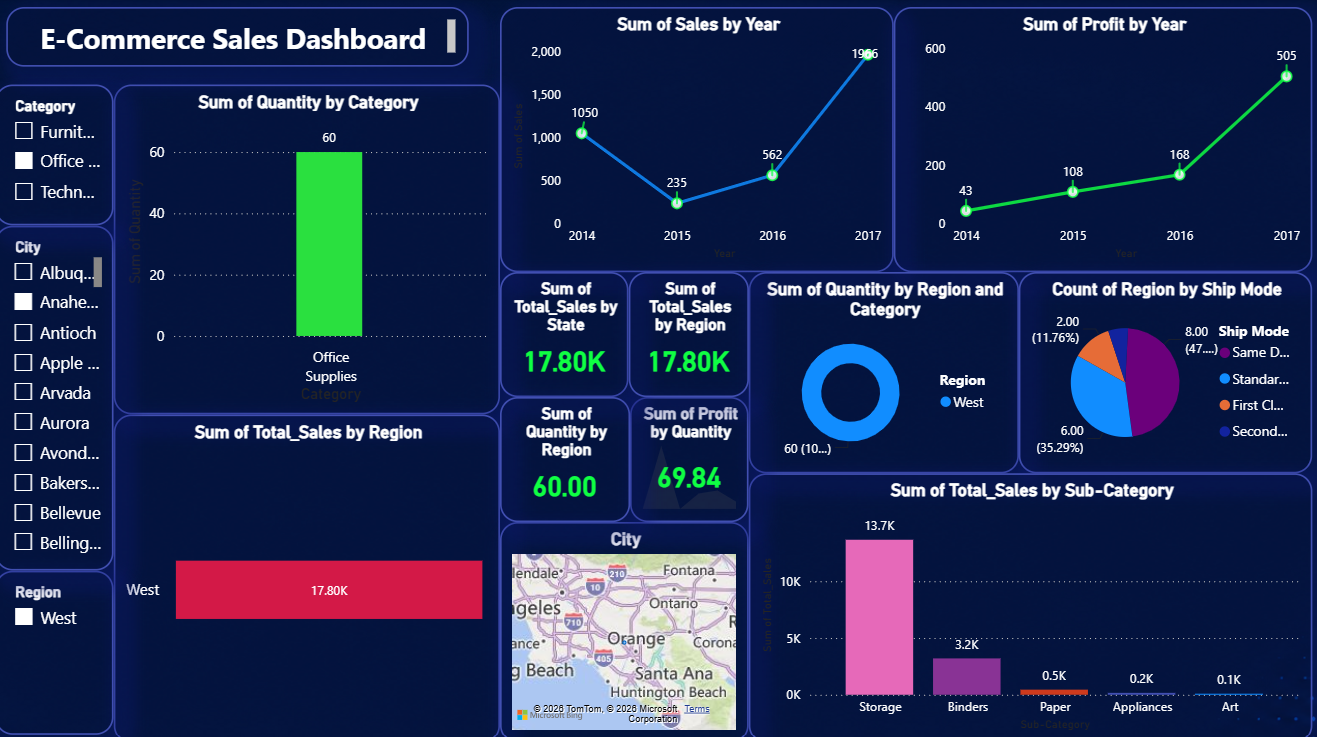

The page's visual inventory and layout, read from the dashboard file:
{"tool":"powerbi","page":{"name":"Page 1","canvas":[1280,720],"ordinal":0},"visuals":[{"type":"textbox","box":[10.9,9.7,446.4,57.9],"z":0},{"type":"columnChart","fields":{"Category":["Sample - Superstore.Category"],"Y":["Sum(Sample.Quantity)"]},"box":[114.6,84.5,372.8,318.5],"z":1000},{"type":"lineChart","fields":{"Y":["Sum(Sample.Sales)"],"Category":["Sample.Order Date.Variation.Date Hierarchy.Year"]},"box":[487.4,9.7,380,255.8],"z":3000},{"type":"lineChart","fields":{"Category":["Sample.Order Date.Variation.Date Hierarchy.Year"],"Y":["Sum(Sample.Profit)"]},"box":[867.4,9.7,404.2,255.8],"z":4000},{"type":"donutChart","fields":{"Category":["Sample.Region"],"Y":["Sum(Sample.Quantity)"],"Series":["Sample.Category"]},"box":[727.5,265.4,260.6,194.2],"z":5000},{"type":"funnel","fields":{"Category":["Sample.Region"],"Y":["Sum(Sample.Total_Sales)"]},"box":[114.6,403,372.8,317.3],"z":6000},{"type":"map","fields":{"Category":["Sample.City"]},"box":[487.4,506.7,240.1,213.5],"z":7000},{"type":"pieChart","title":"         Count of Region by Ship Mode","fields":{"Category":["Sample.Ship Mode"],"Y":["CountNonNull(Sample.Region)"]},"box":[988.1,265.4,283.5,194.2],"z":8000},{"type":"columnChart","fields":{"Category":["Sample.Sub-Category"],"Y":["Sum(Sample.Total_Sales)"]},"box":[727.5,459.7,544.1,260.6],"z":9000},{"type":"kpi","fields":{"Indicator":["Sum(Sample.Profit)"],"TrendLine":["Sample.Quantity"]},"box":[612.4,386.3,114.6,120.6],"z":10000},{"type":"kpi","fields":{"Indicator":["Sum(Sample.Total_Sales)"],"TrendLine":["Sample.State"]},"box":[486.9,265.7,124.3,120.6],"z":11000},{"type":"kpi","fields":{"Indicator":["Sum(Sample.Quantity)"],"TrendLine":["Sample.Region"]},"box":[486.9,386.3,125.5,120.6],"z":12000},{"type":"kpi","fields":{"Indicator":["Sum(Sample.Total_Sales)"],"TrendLine":["Sample.Region"]},"box":[611.2,265.7,115.8,120.6],"z":13000},{"type":"slicer","fields":{"Values":["Sample.Region"]},"box":[0,553.8,114.6,158],"z":14000},{"type":"slicer","fields":{"Values":["Sample.City"]},"box":[0,220.8,114.6,333],"z":15000},{"type":"slicer","fields":{"Values":["Sample.Category"]},"box":[0,84.5,114.6,136.3],"z":16000}]}

Visuals, with their boxes in screenshot pixels (x1, y1, x2, y2), scaled from the page's 1280x720 canvas onto the 1317x737 screenshot:
textbox: left=11, top=10, right=471, bottom=69
columnChart - Sample - Superstore.Category x Sum(Sample.Quantity): left=118, top=86, right=501, bottom=413
lineChart - Sum(Sample.Sales) x Sample.Order Date.Variation.Date Hierarchy.Year: left=501, top=10, right=892, bottom=272
lineChart - Sample.Order Date.Variation.Date Hierarchy.Year x Sum(Sample.Profit): left=892, top=10, right=1308, bottom=272
donutChart - Sample.Region x Sum(Sample.Quantity): left=749, top=272, right=1017, bottom=470
funnel - Sample.Region x Sum(Sample.Total_Sales): left=118, top=413, right=501, bottom=736
map - Sample.City: left=501, top=519, right=749, bottom=736
"         Count of Region by Ship Mode" pieChart: left=1017, top=272, right=1308, bottom=470
columnChart - Sample.Sub-Category x Sum(Sample.Total_Sales): left=749, top=471, right=1308, bottom=736
kpi - Sum(Sample.Profit) x Sample.Quantity: left=630, top=395, right=748, bottom=519
kpi - Sum(Sample.Total_Sales) x Sample.State: left=501, top=272, right=629, bottom=395
kpi - Sum(Sample.Quantity) x Sample.Region: left=501, top=395, right=630, bottom=519
kpi - Sum(Sample.Total_Sales) x Sample.Region: left=629, top=272, right=748, bottom=395
slicer - Sample.Region: left=0, top=567, right=118, bottom=729
slicer - Sample.City: left=0, top=226, right=118, bottom=567
slicer - Sample.Category: left=0, top=86, right=118, bottom=226
